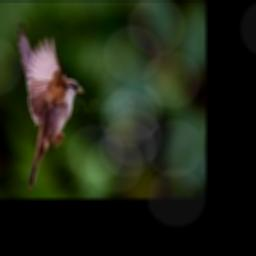Sparrow: (17, 21, 85, 188)
